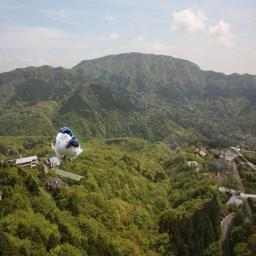Swallow: (51, 127, 91, 162)
